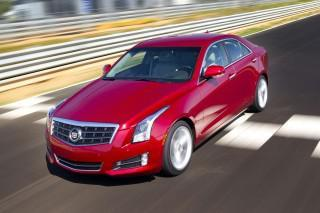cadillac: (67, 127, 84, 142)
